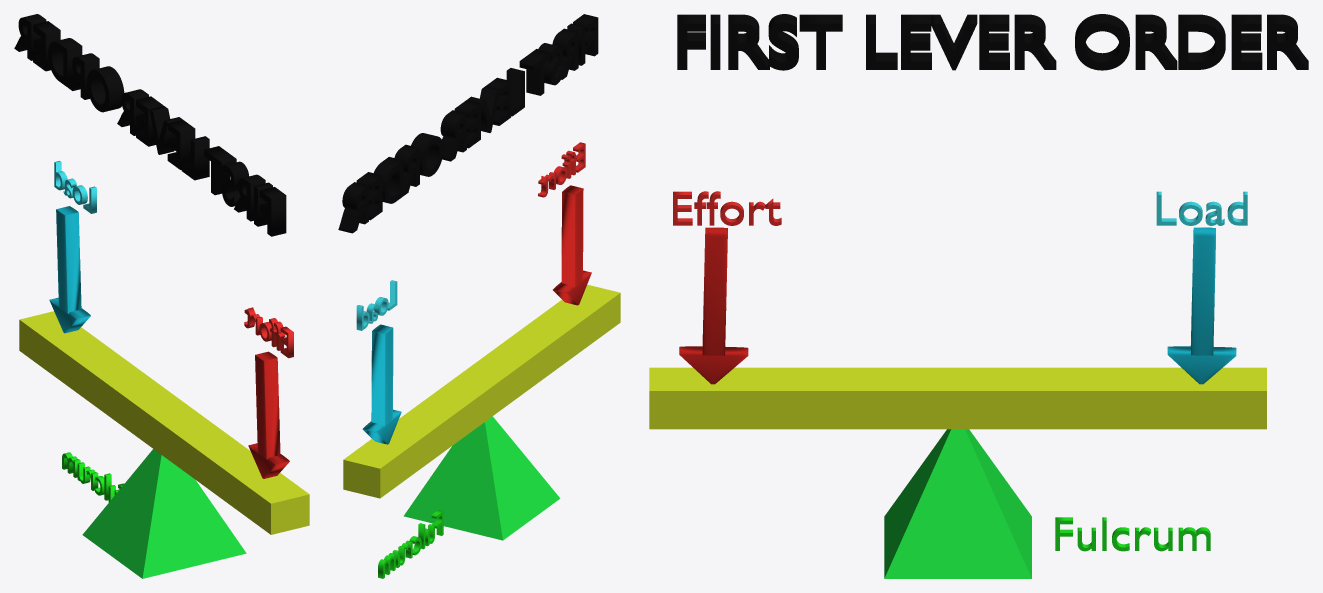
File: First Lever Order.gltf
The picture shows the model from 3 angles, left to right: view 1: azimuth 30°, elevation 25°; view 2: azimuth 150°, elevation 25°; view 3: azimuth 270°, elevation 25°; orthographic projection. The views are drawn at different scales.
Visible parts, largest first — view 1: Cube.001, Text.003, Cube, Cylinder.008, Cylinder.001, Text, Text.002, Text.001; view 2: Cube.001, Text.003, Cube, Cylinder.001, Cylinder.008, Text.002, Text, Text.001; view 3: Cube.001, Text.003, Cube, Cylinder.008, Cylinder.001, Text.002, Text, Text.001.
Part boxes in pixels (x1=…): Cube.001: x1=19, y1=311, x2=309, y2=534; Text.003: x1=14, y1=14, x2=286, y2=236; Cube: x1=82, y1=449, x2=246, y2=578; Cylinder.008: x1=248, y1=351, x2=289, y2=478; Cylinder.001: x1=49, y1=206, x2=90, y2=333; Text: x1=244, y1=307, x2=293, y2=358; Text.002: x1=62, y1=452, x2=123, y2=502; Text.001: x1=54, y1=161, x2=96, y2=213; Cube.001: x1=343, y1=284, x2=620, y2=498; Text.003: x1=338, y1=14, x2=598, y2=233; Cube: x1=404, y1=416, x2=560, y2=540; Cylinder.001: x1=362, y1=324, x2=401, y2=444; Cylinder.008: x1=553, y1=185, x2=591, y2=305; Text.002: x1=378, y1=509, x2=443, y2=578; Text: x1=538, y1=142, x2=585, y2=197; Text.001: x1=356, y1=280, x2=397, y2=330; Cube.001: x1=649, y1=367, x2=1266, y2=429; Text.003: x1=677, y1=14, x2=1308, y2=70; Cube: x1=884, y1=429, x2=1031, y2=578; Cylinder.008: x1=679, y1=227, x2=748, y2=384; Cylinder.001: x1=1167, y1=227, x2=1236, y2=384; Text.002: x1=1055, y1=517, x2=1210, y2=551; Text: x1=673, y1=191, x2=781, y2=225; Text.001: x1=1156, y1=191, x2=1247, y2=225.
Size of the model in its own units: 3 by 11.86 by 13.39.
